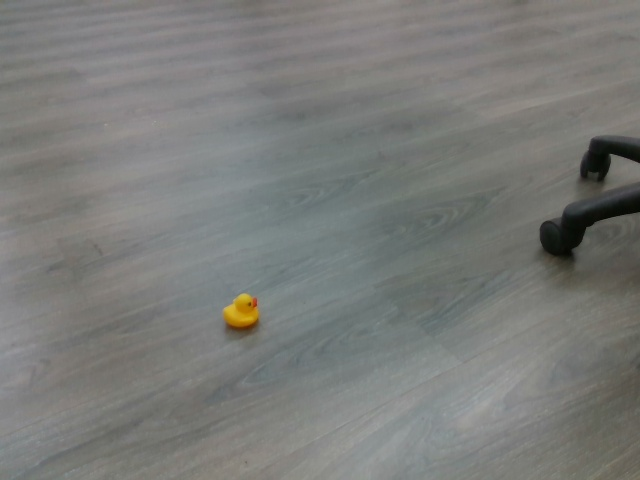duck: (220, 288, 263, 330)
